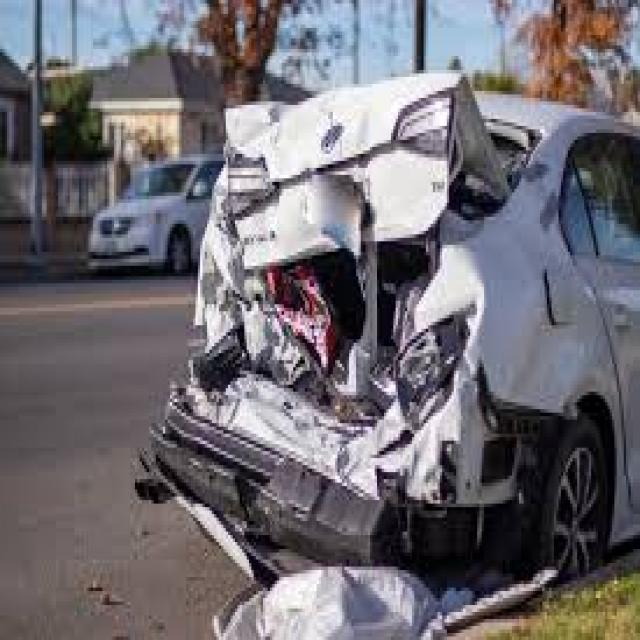accident: (180, 85, 602, 614)
